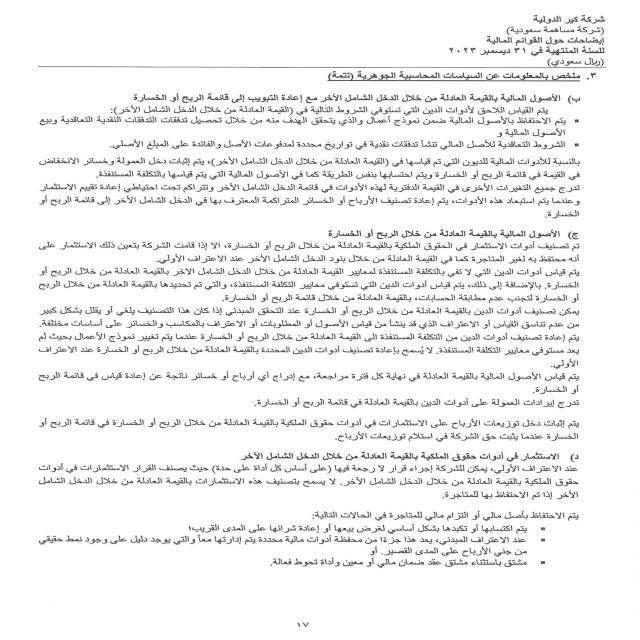notes: (475, 36, 614, 46)
text: (12, 74, 598, 580)
